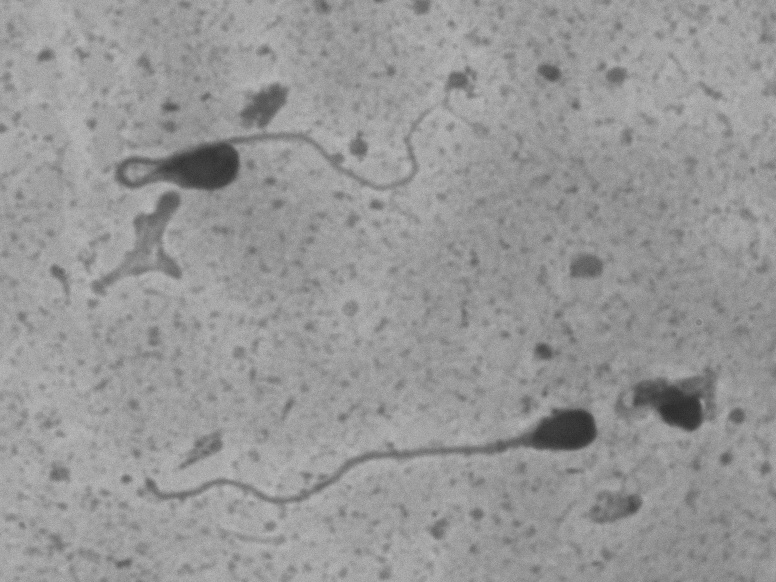Abnormal: (111, 402, 601, 526), (100, 82, 480, 210)
